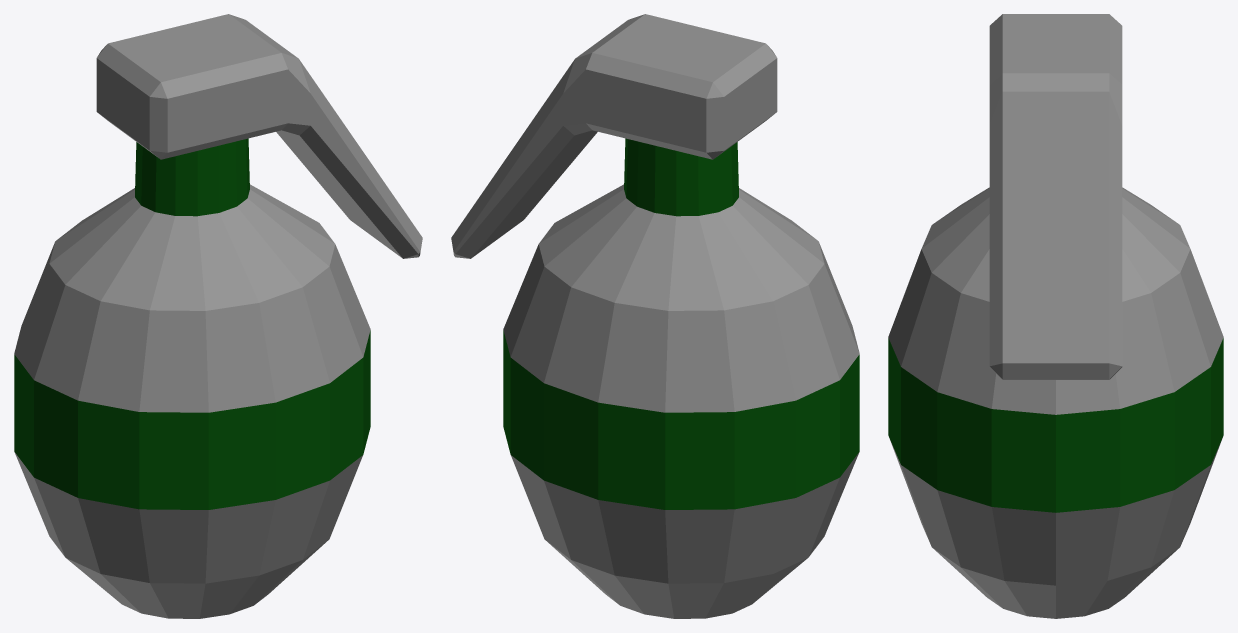
File: Grenade.fbx
3 renders of one model, left to right at view 1: azimuth 30°, elevation 25°; view 2: azimuth 150°, elevation 25°; view 3: azimuth 270°, elevation 25°, orthographic.
Visible parts, largest first — view 1: Sphere; view 2: Sphere; view 3: Sphere.
Part boxes in pixels (bbox=[...]): Sphere: bbox=[14, 14, 422, 618]; Sphere: bbox=[451, 14, 859, 618]; Sphere: bbox=[888, 14, 1223, 618].
Size of the model in its own units: 173 by 256 by 138.
